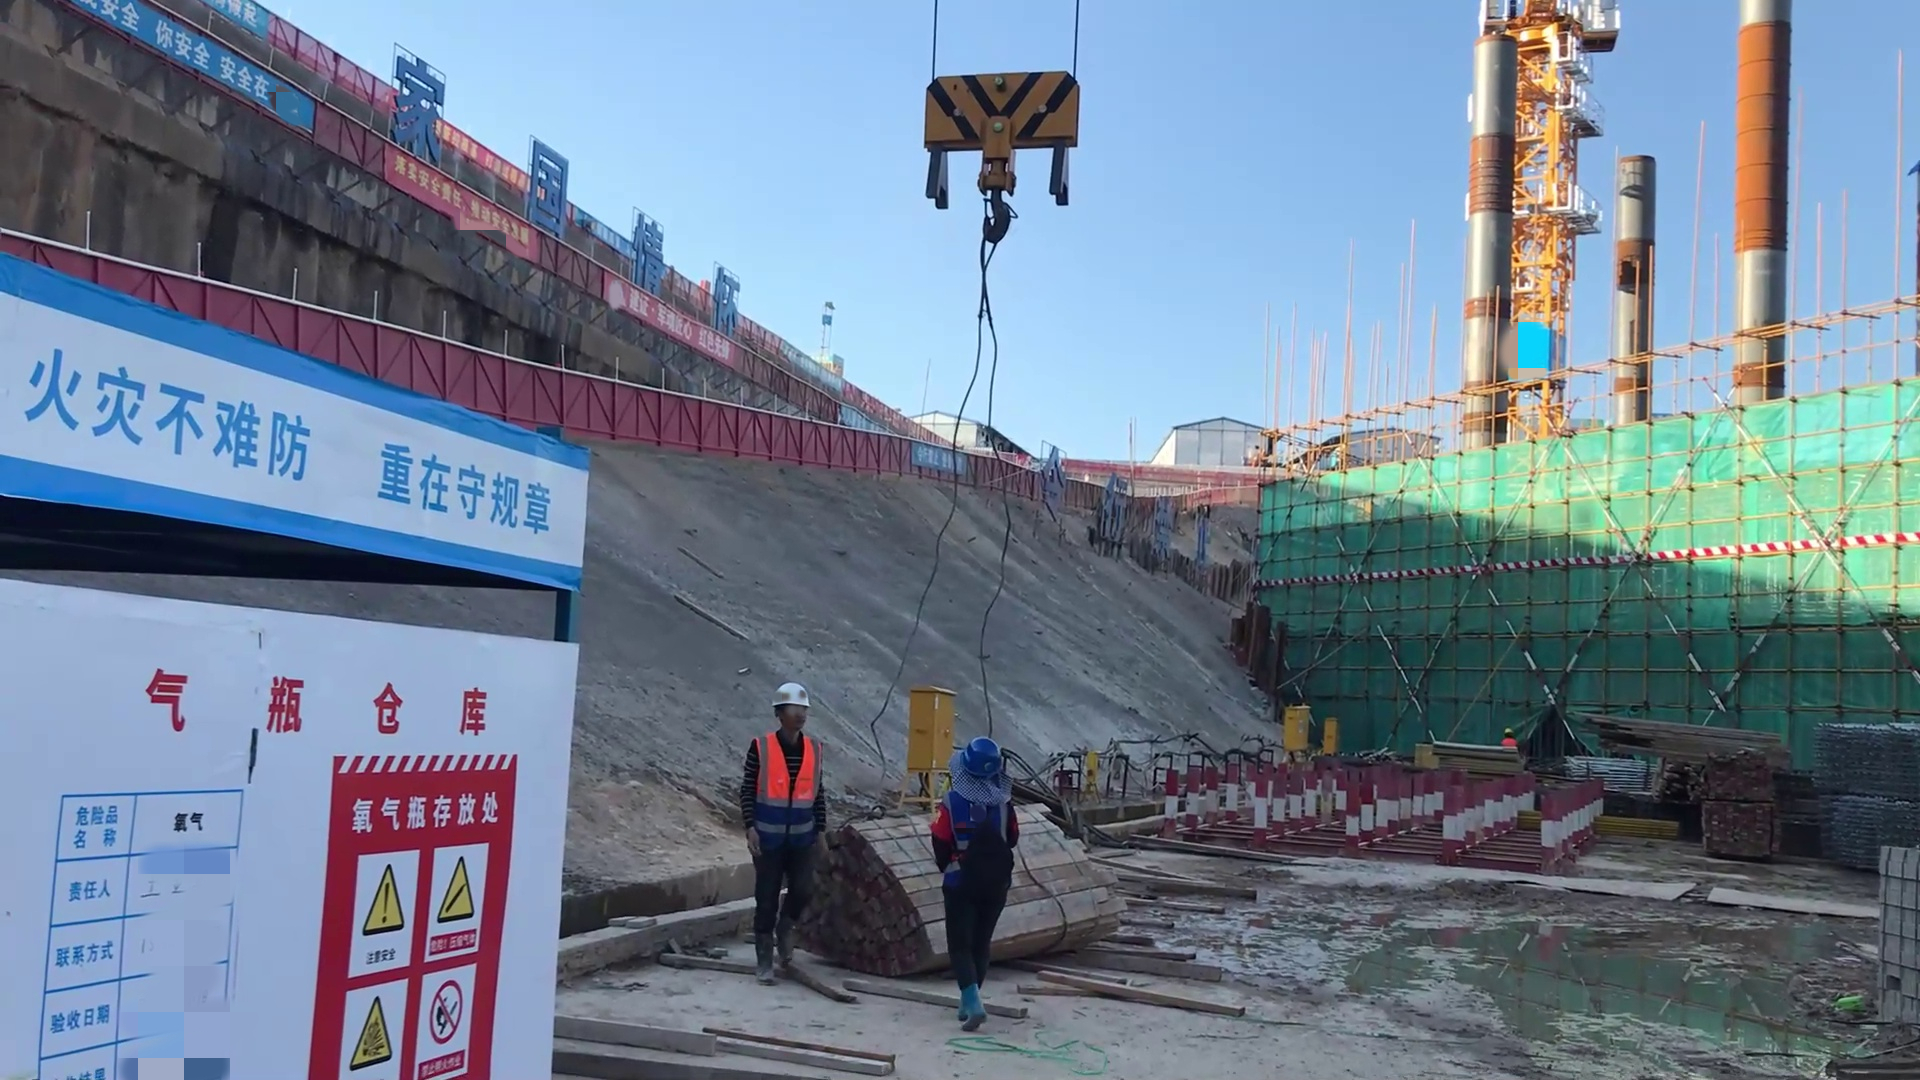brick: (1878, 845, 1920, 1042)
ebox: (906, 687, 958, 780), (1280, 704, 1312, 750), (1323, 713, 1341, 752)
fence: (600, 379, 762, 457), (760, 411, 912, 479)
helmet: (945, 743, 1004, 780), (765, 682, 813, 709), (1503, 727, 1514, 735)
hook: (919, 56, 1081, 222)
person: (925, 726, 1031, 1031), (738, 674, 822, 985), (1501, 726, 1518, 747)
scaffold: (1807, 715, 1920, 801)
slogan: (21, 356, 575, 542), (300, 842, 506, 1080), (77, 1, 328, 152), (362, 144, 564, 274)
vest: (744, 726, 814, 811), (1502, 736, 1516, 748)
wood: (1025, 811, 1252, 1016), (1571, 687, 1773, 782)
